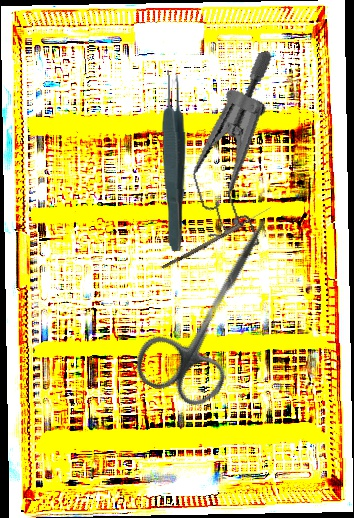Iris Scissors: (127, 196, 302, 417)
Speculum: (160, 49, 326, 266)
Surgical Spoon: (161, 204, 273, 272)
Tissue Forceps: (160, 69, 189, 252)
